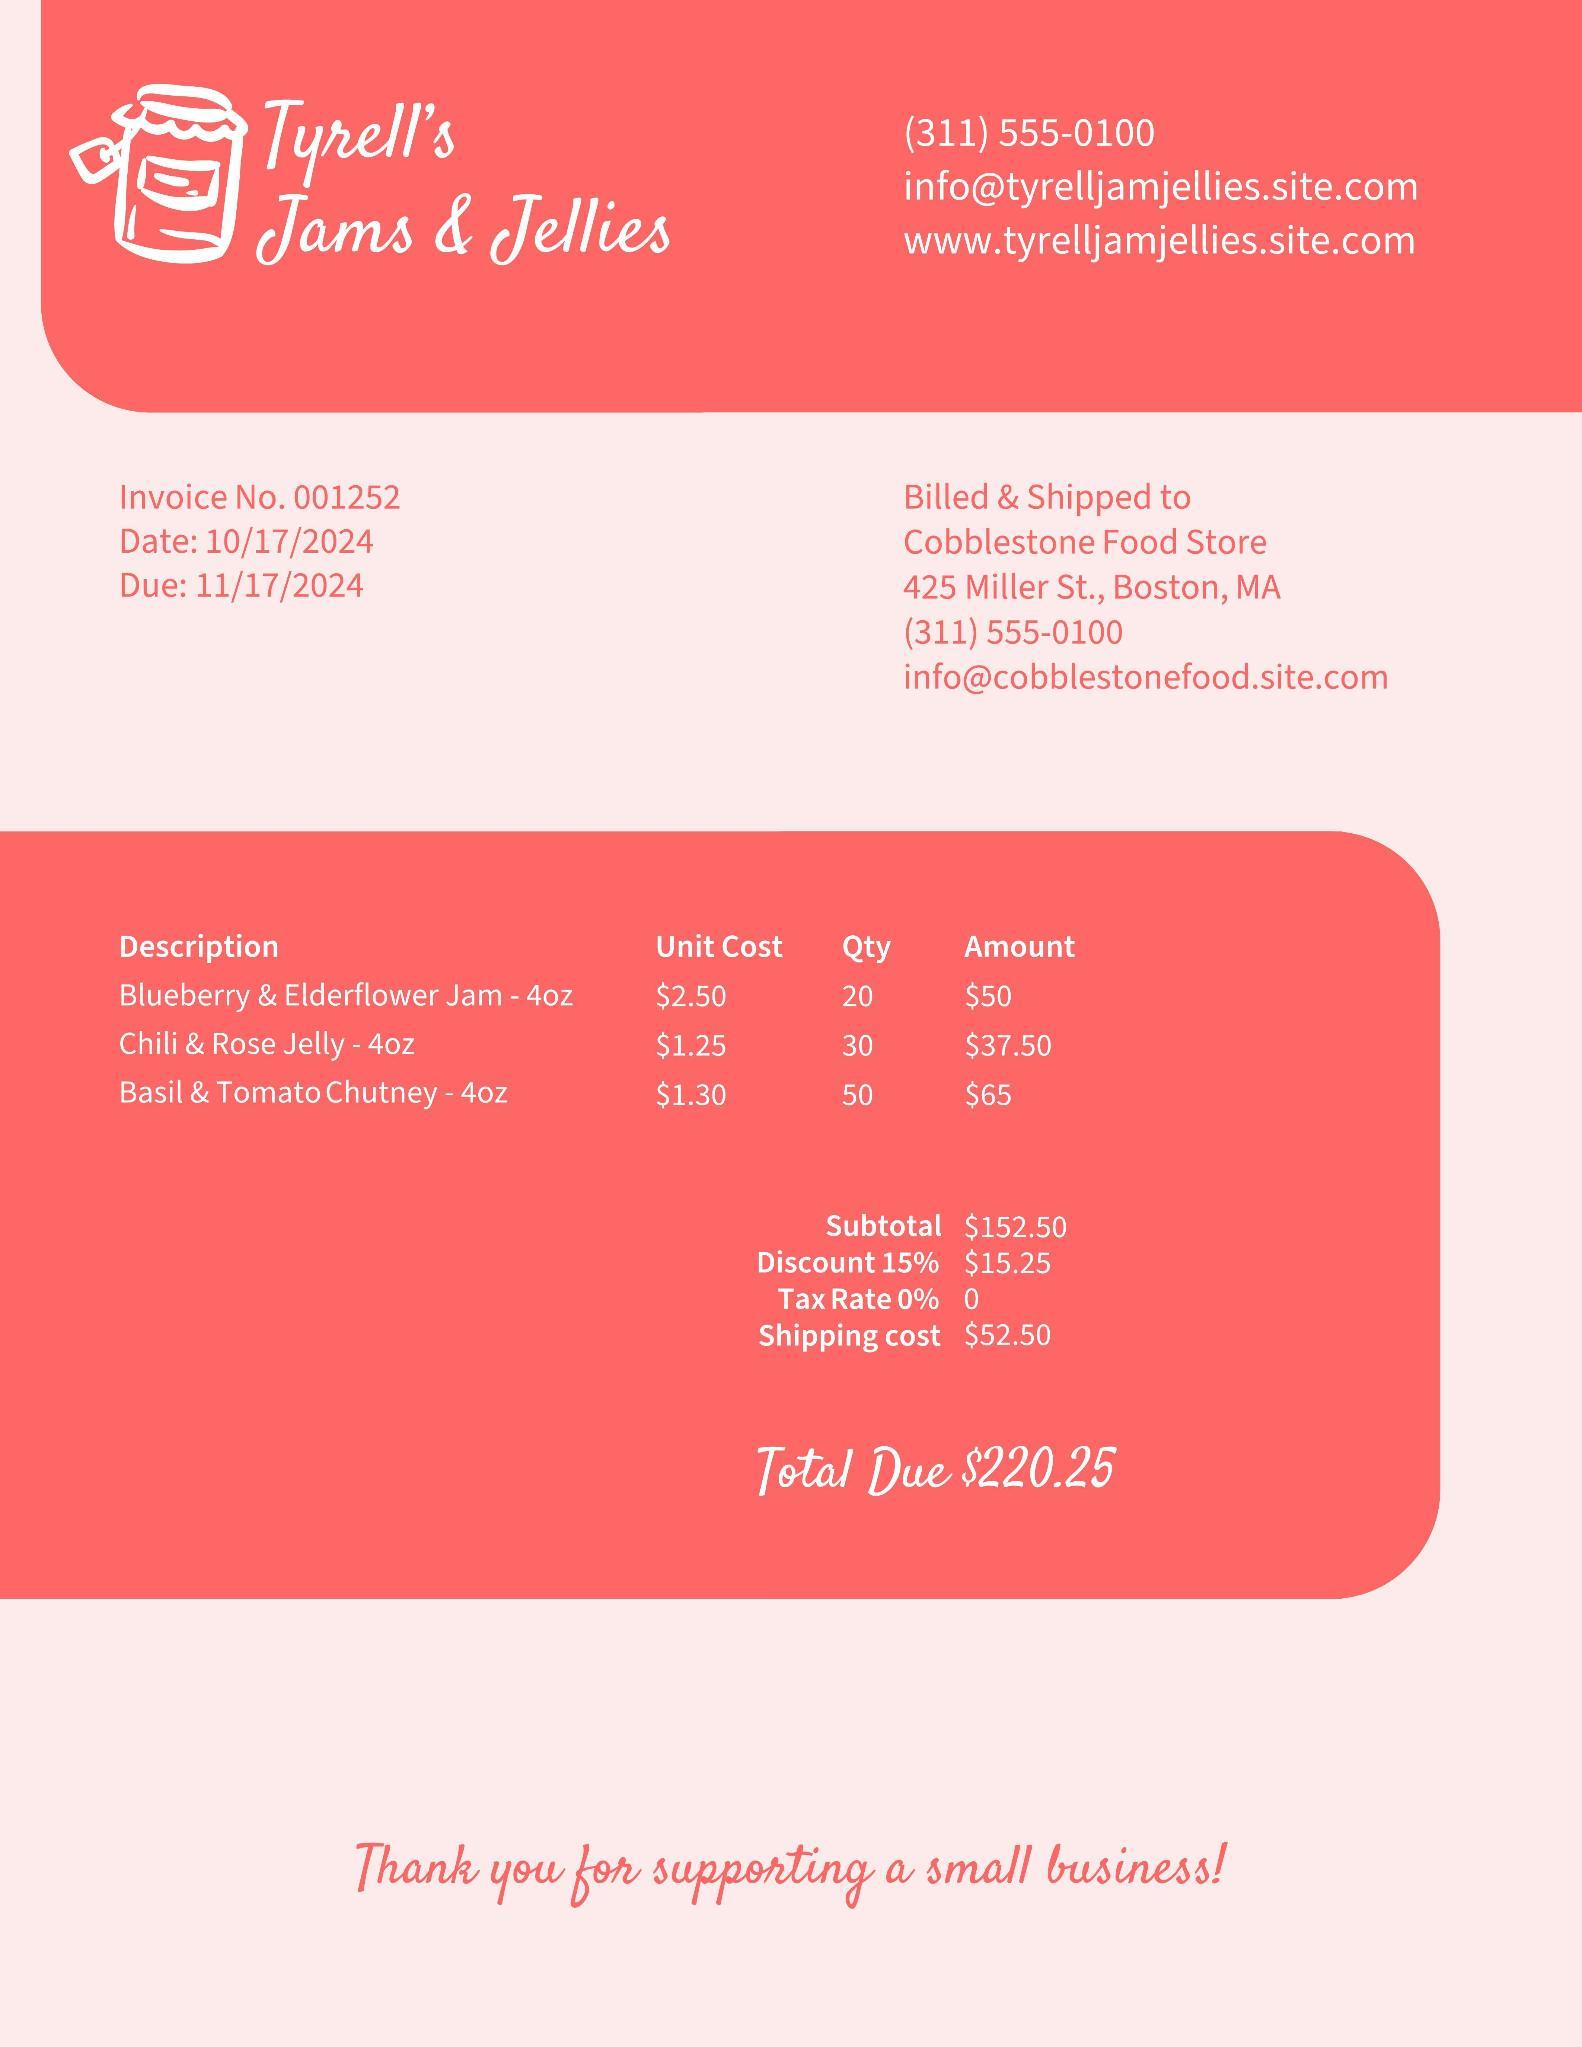ROI: (38, 881, 1173, 1161), (299, 1770, 1308, 1966), (61, 52, 696, 317), (872, 459, 1439, 739), (847, 61, 1466, 307), (720, 1196, 1128, 1389), (80, 455, 450, 620), (726, 1427, 1153, 1544)
